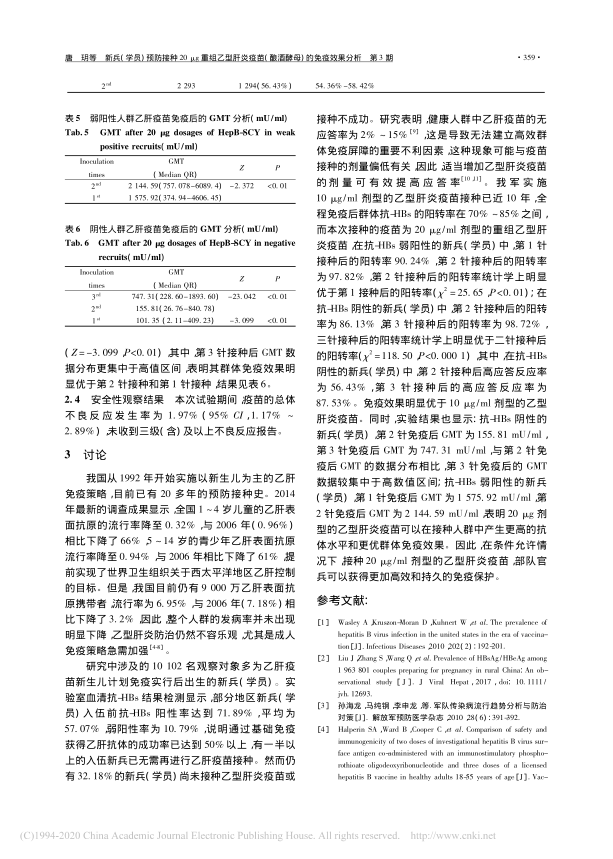Header: (64, 50, 396, 62), (237, 81, 293, 89), (315, 82, 376, 89), (176, 81, 196, 89), (518, 53, 540, 60), (100, 81, 112, 89)
Reference: (317, 725, 551, 783), (315, 654, 550, 696), (315, 615, 549, 651), (317, 699, 548, 723)
Table: (62, 264, 299, 329), (63, 154, 298, 206)
Text: (317, 114, 548, 583), (65, 472, 296, 656), (64, 660, 297, 784), (65, 344, 297, 391), (61, 221, 297, 260), (64, 113, 296, 150), (64, 409, 295, 438)
Title: (64, 394, 164, 406), (317, 594, 368, 606), (64, 448, 106, 460)
